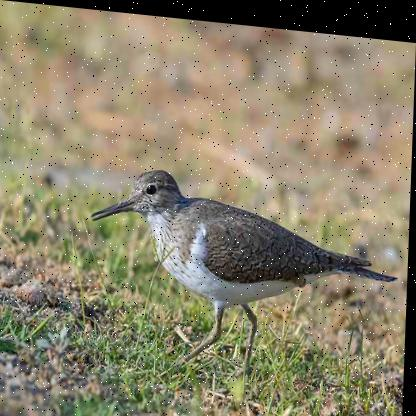Burung: (88, 159, 405, 383)
